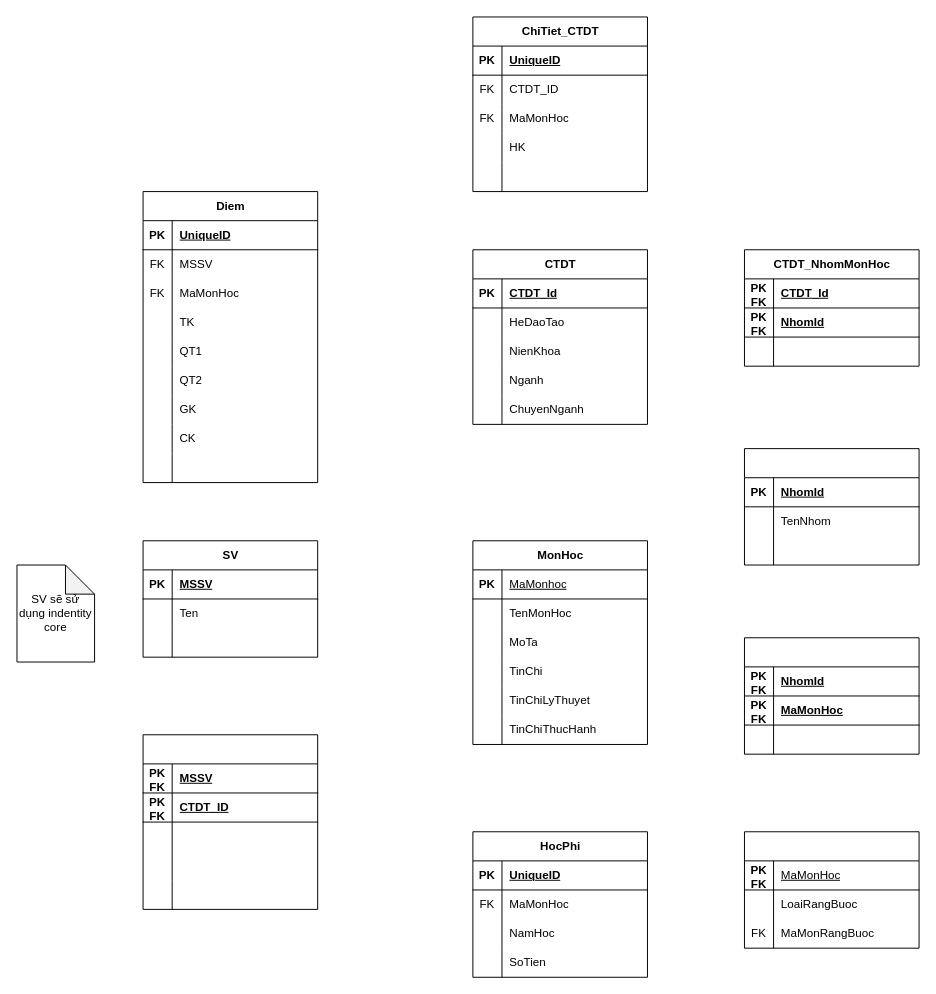
Some shapes in this 936 by 994 pixel diagram are drawn without their labels. Here are the shapes that lost their labels. From the top down, the box of each, then its label:
(744, 448, 919, 565): NhomMonHoc
(744, 637, 919, 754): NhomMonHoc_MonHoc
(142, 734, 318, 909): SV_CTDT
(744, 831, 919, 948): RangBuocMonHoc
